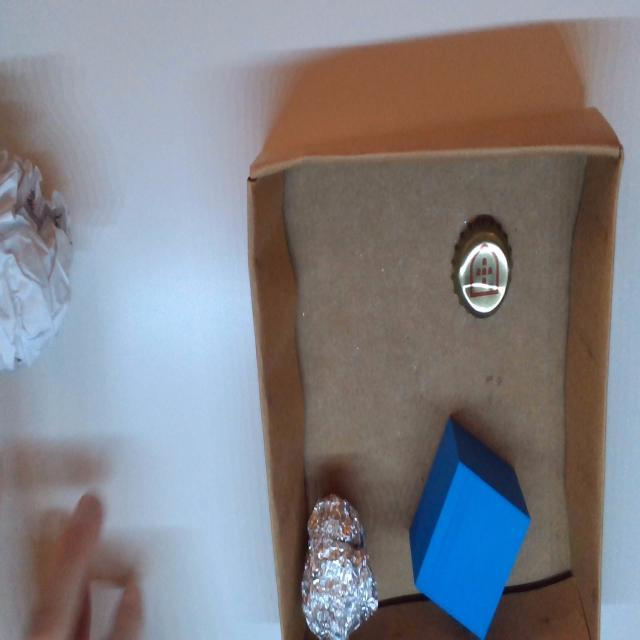Cardboard: (244, 105, 626, 640)
Paper: (0, 154, 75, 372)
